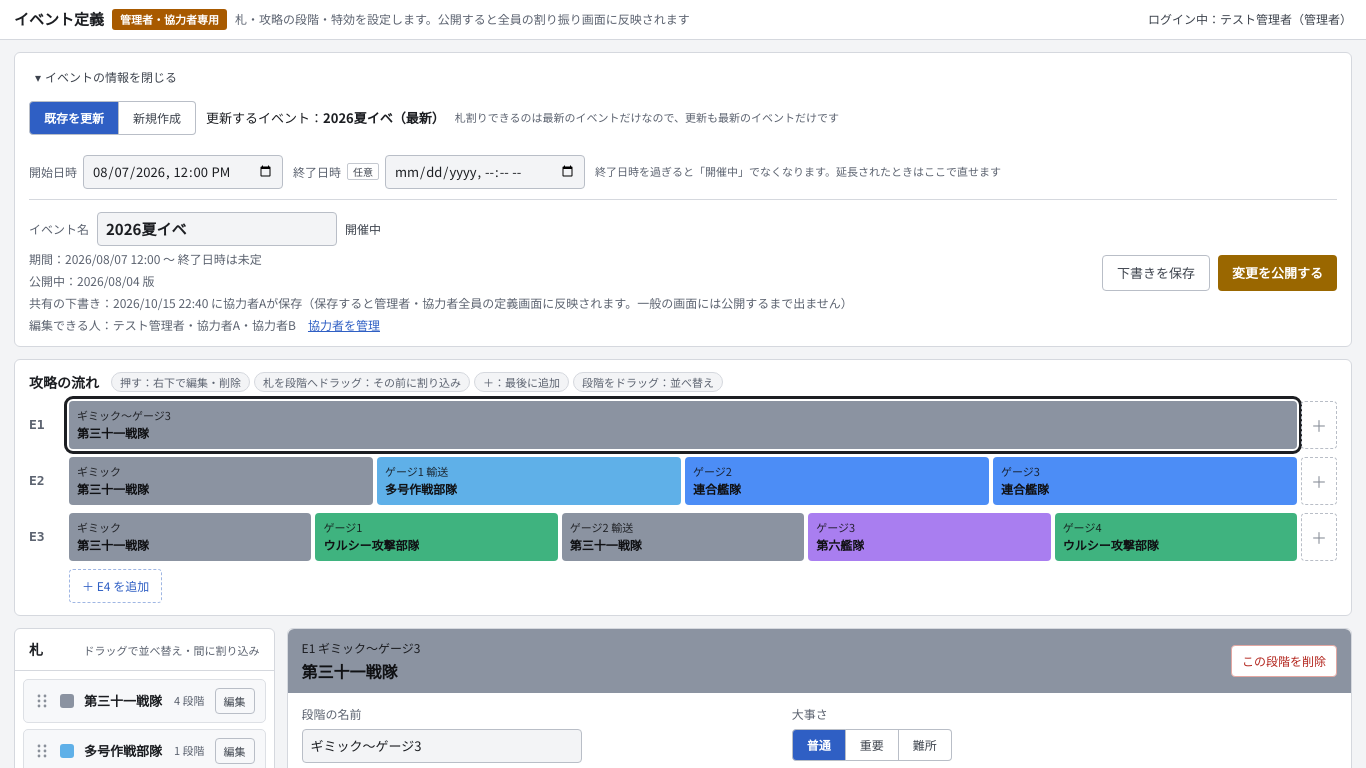
Scenario: イベント定義の画面（PlanEditor）：攻略の流れと札の一覧 › 攻略の流れ › 行の「＋」を押すと「（海域）の最後に追加する札」のメニューを開き、今ある札を札の並び順で出す
Expected: the element "攻略の流れ" is shown, [14,358,1352,616]
What coordinates should you click on to do the following:
click the button named "段階を追加"
I would click on:
 (1319, 480)
Its box is [1301,456,1337,504].
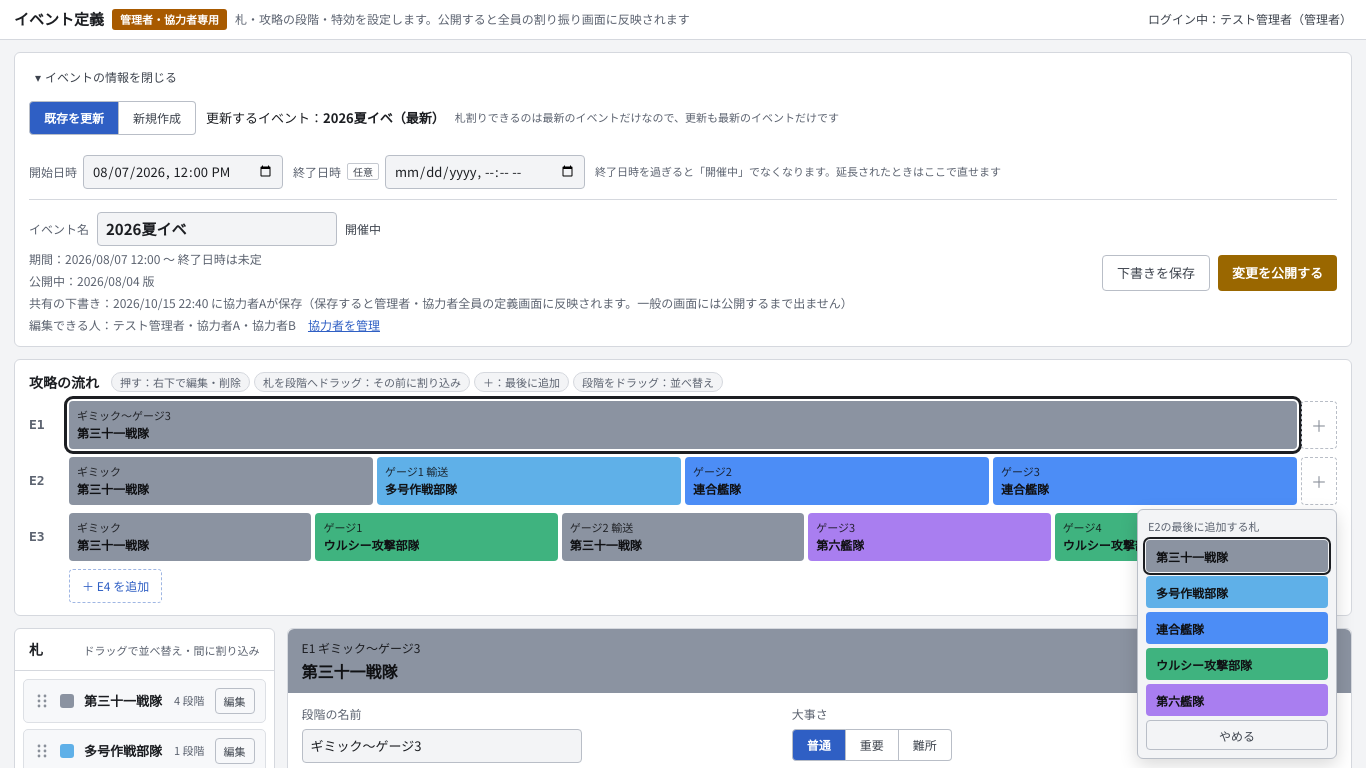
Result: the menu shows "E2の最後に追加する札" at [1137,508,1337,759]
Result: the number of menu items is 5 at [1146,540,1328,572]; [1146,576,1328,608]; [1146,612,1328,644]; [1146,648,1328,680]; [1146,684,1328,716]
Result: the menu item "第三十一戦隊" is shown at [1146,540,1328,572]
